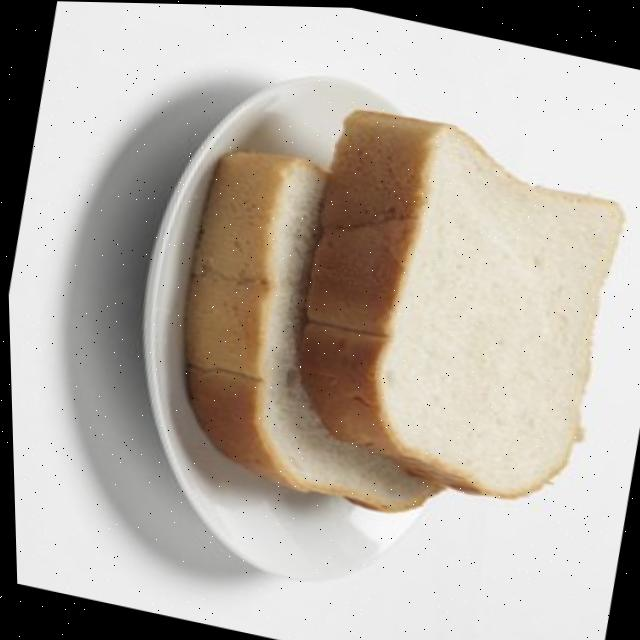Bread: (298, 109, 620, 495), (183, 150, 434, 511)
